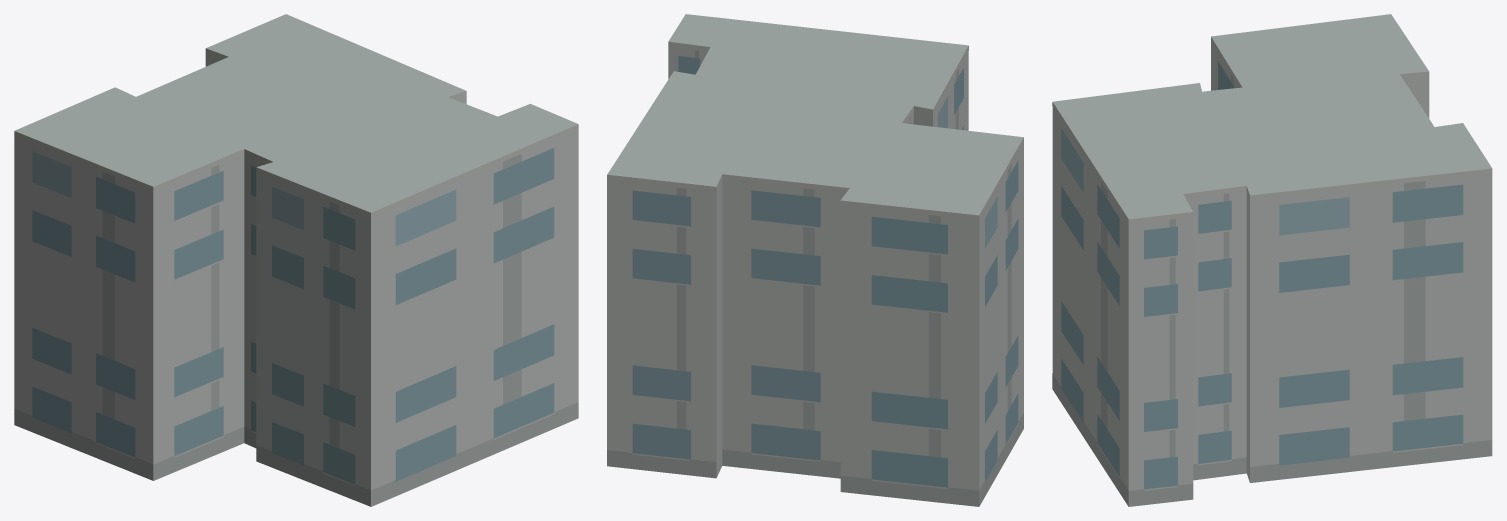
File: survey-upis-32574897.glb
3 views of the same model, side by side, from view 1: azimuth 30°, elevation 25°; view 2: azimuth 150°, elevation 25°; view 3: azimuth 270°, elevation 25° (orthographic). The views are drawn at different scales.
Visible parts, largest first — view 1: survey-upis-32574897.tmp; view 2: survey-upis-32574897.tmp; view 3: survey-upis-32574897.tmp.
Part boxes in pixels (x1,y1,x2,y2): survey-upis-32574897.tmp: (14, 14, 578, 506); survey-upis-32574897.tmp: (607, 14, 1023, 506); survey-upis-32574897.tmp: (1052, 14, 1492, 506).
Bounding box in the file's own units: 21.29 × 13.9 × 19.28.
